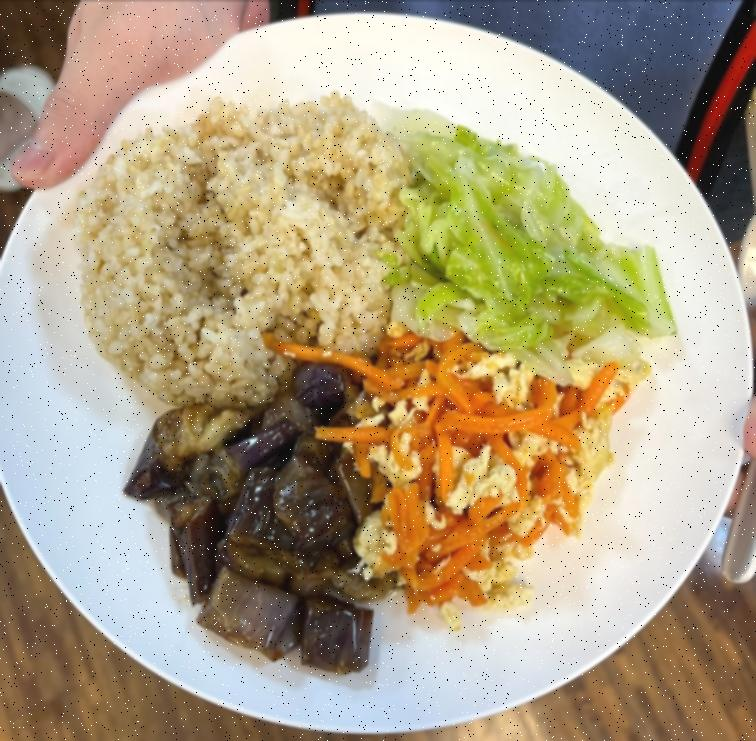brown rice: (76, 84, 406, 408)
plate: (4, 9, 756, 741)
side dish: (122, 358, 375, 680), (353, 342, 632, 620), (394, 104, 680, 354)
